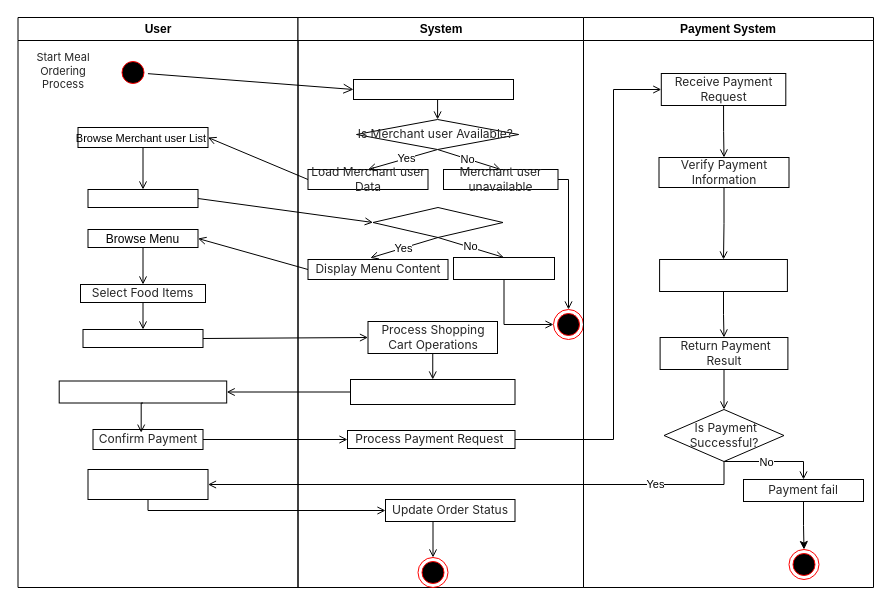
Image size: 891x605. Some labels were removed from this diagram. The shapes that lost their labels are listed below. From the top down, each one's centre as x and y in pixels, then its label:
pixel 433 89: Verify User Login Status
pixel 142 198: Select Merchant user
pixel 437 222: Is Item In Stock?
pixel 503 268: Item out of stock
pixel 723 275: Process Payment Transaction
pixel 142 338: Customize Order
pixel 142 391: Select Payment Method
pixel 432 391: Calculate Order Total
pixel 147 484: Receive Order Confirmation
